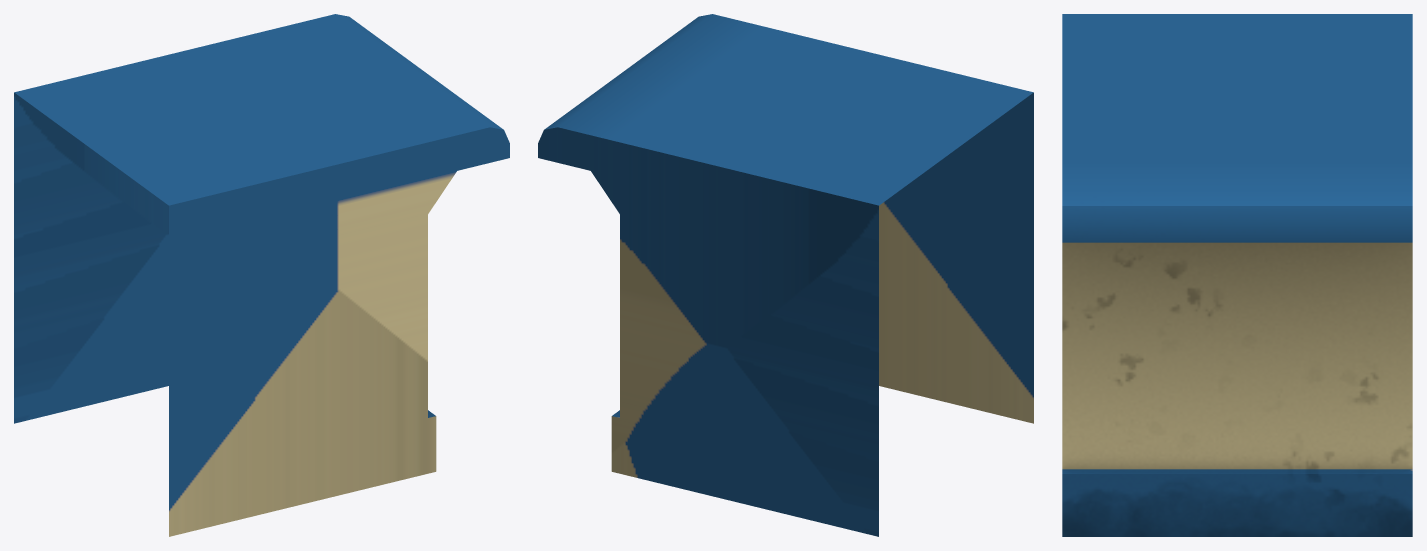
File: PROP_063_Counters_A.fbx
3 views of the same model, side by side, from view 1: azimuth 30°, elevation 25°; view 2: azimuth 150°, elevation 25°; view 3: azimuth 270°, elevation 25° (orthographic). The views are drawn at different scales.
Visible parts, largest first — view 1: Counter_1.002; view 2: Counter_1.002; view 3: Counter_1.002.
Boxes of the visible parts, bbox=[...] form: Counter_1.002: bbox=[14, 14, 509, 536]; Counter_1.002: bbox=[538, 14, 1033, 536]; Counter_1.002: bbox=[1062, 14, 1412, 536].
Bounding box in the file's own units: 1.35 × 1.25 × 1.06.
1 material, 1 textured.
